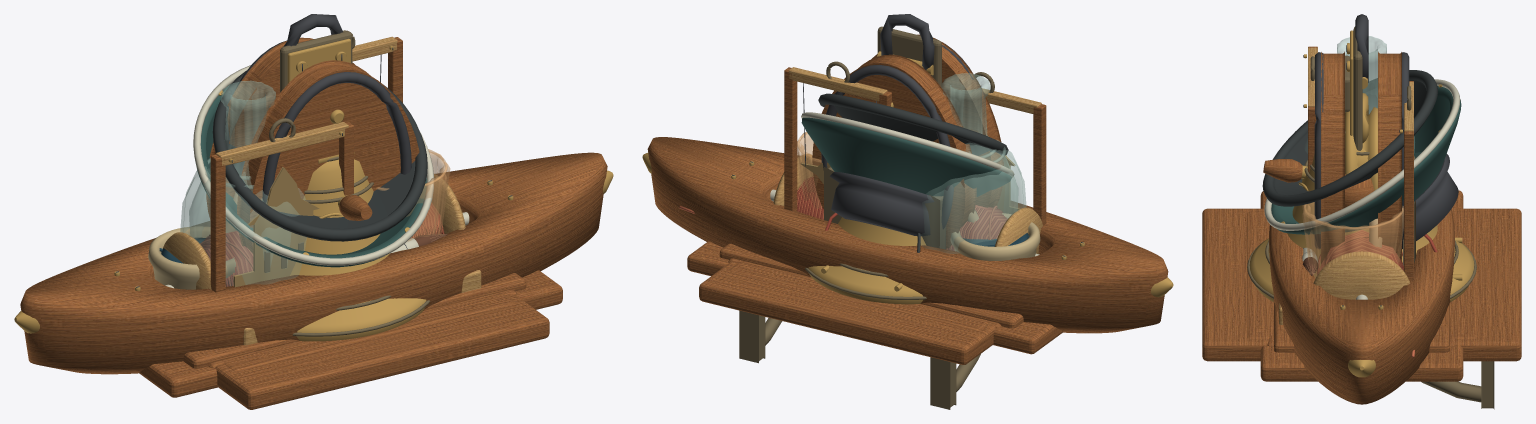
File: exhibit-objects.glb
3 views of the same model, side by side, from view 1: azimuth 30°, elevation 25°; view 2: azimuth 150°, elevation 25°; view 3: azimuth 270°, elevation 25° (orthographic). The views are drawn at different scales.
Parts seen in each view (by area): view 1: loom_assembly, bells_assembly, barge_assembly, soundmap_assembly, shadow_assembly, glass_assembly, craft_assembly, regional_assembly; view 2: loom_assembly, soundmap_assembly, bells_assembly, barge_assembly, glass_assembly, shadow_assembly, craft_assembly, regional_assembly; view 3: loom_assembly, bells_assembly, soundmap_assembly, barge_assembly, glass_assembly, shadow_assembly, craft_assembly, regional_assembly, passport_assembly.
Boxes of the visible parts, left/top/right/bottom form: loom_assembly: left=14, top=152, right=613, bottom=374; bells_assembly: left=215, top=156, right=549, bottom=409; barge_assembly: left=206, top=14, right=516, bottom=368; soundmap_assembly: left=193, top=65, right=515, bottom=371; shadow_assembly: left=183, top=30, right=526, bottom=368; glass_assembly: left=180, top=80, right=450, bottom=286; craft_assembly: left=139, top=226, right=562, bottom=397; regional_assembly: left=280, top=31, right=372, bottom=220; loom_assembly: left=642, top=137, right=1173, bottom=333; soundmap_assembly: left=729, top=93, right=1014, bottom=330; bells_assembly: left=699, top=217, right=995, bottom=409; barge_assembly: left=728, top=14, right=1003, bottom=327; glass_assembly: left=797, top=73, right=1026, bottom=253; shadow_assembly: left=719, top=61, right=1046, bottom=328; craft_assembly: left=687, top=213, right=1062, bottom=354; regional_assembly: left=877, top=26, right=941, bottom=87; loom_assembly: left=1269, top=209, right=1454, bottom=404; bells_assembly: left=1202, top=93, right=1521, bottom=409; soundmap_assembly: left=1247, top=70, right=1476, bottom=338; barge_assembly: left=1267, top=14, right=1456, bottom=346; glass_assembly: left=1302, top=36, right=1414, bottom=278; shadow_assembly: left=1274, top=46, right=1449, bottom=352; craft_assembly: left=1260, top=190, right=1463, bottom=381; regional_assembly: left=1263, top=26, right=1362, bottom=182; passport_assembly: left=1345, top=174, right=1374, bottom=207.
Size of the model in its own units: 0.6378 by 0.3727 by 0.319.
Materials: 20 (2 with a texture image).
